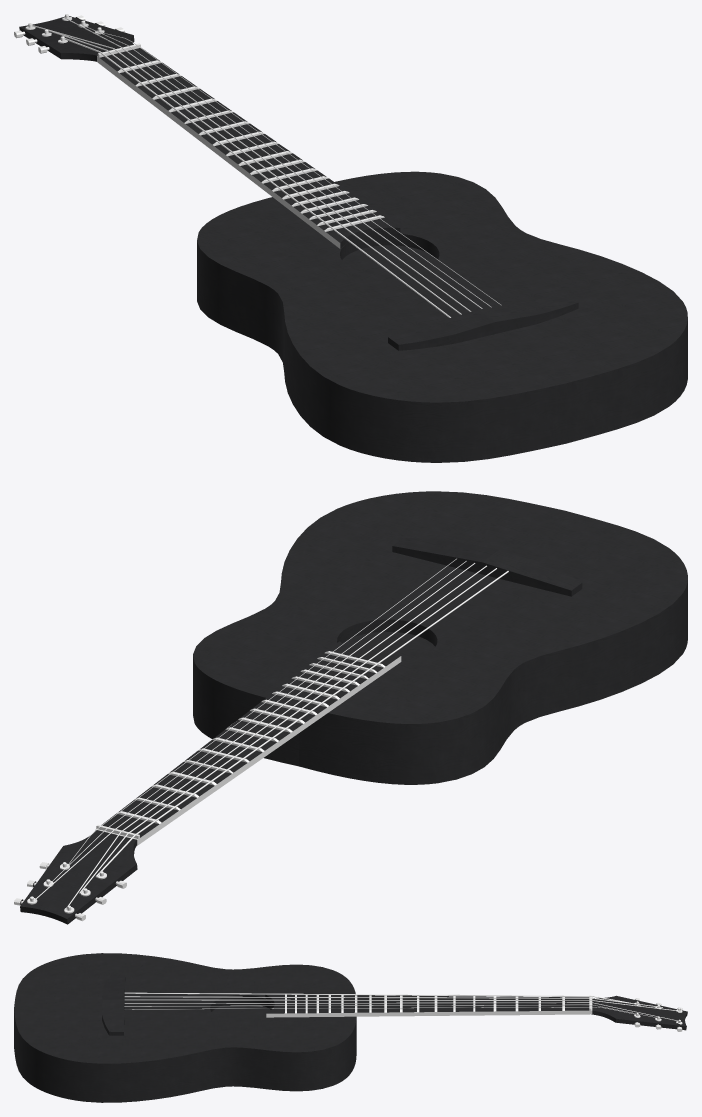
File: guitar.glb
The picture shows the model from 3 angles, top to bottom: view 1: azimuth 30°, elevation 25°; view 2: azimuth 150°, elevation 25°; view 3: azimuth 270°, elevation 25°; orthographic projection. The views are drawn at different scales.
Parts seen in each view (by area): view 1: guitar body, neck, guitar head, string1, string2, string3, string4; view 2: guitar body, neck, guitar head, string1, string2, string3, string4; view 3: guitar body, neck, guitar head, string1, string2, string3, string4, string5, string6.
Boxes of the visible parts, x1,y1,x2,y2 form: guitar body: [197, 171, 687, 462]; neck: [97, 43, 400, 248]; guitar head: [14, 14, 134, 61]; string1: [64, 38, 450, 317]; string2: [45, 29, 461, 314]; string3: [32, 25, 471, 311]; string4: [63, 17, 482, 308]; guitar body: [193, 491, 687, 784]; neck: [96, 641, 401, 845]; guitar head: [14, 830, 137, 924]; string1: [95, 571, 508, 877]; string2: [79, 568, 496, 893]; string3: [66, 565, 486, 909]; string4: [32, 563, 475, 901]; guitar body: [14, 953, 356, 1102]; neck: [265, 994, 592, 1017]; guitar head: [591, 995, 687, 1031]; string1: [124, 992, 640, 1005]; string2: [124, 996, 662, 1007]; string3: [125, 999, 680, 1011]; string4: [124, 1002, 677, 1020]; string5: [124, 1004, 656, 1017]; string6: [124, 1007, 635, 1014].
Bounding box in the file's own units: 4.18 × 0.825 × 10.75.
Materials: 4 (1 with a texture image).
